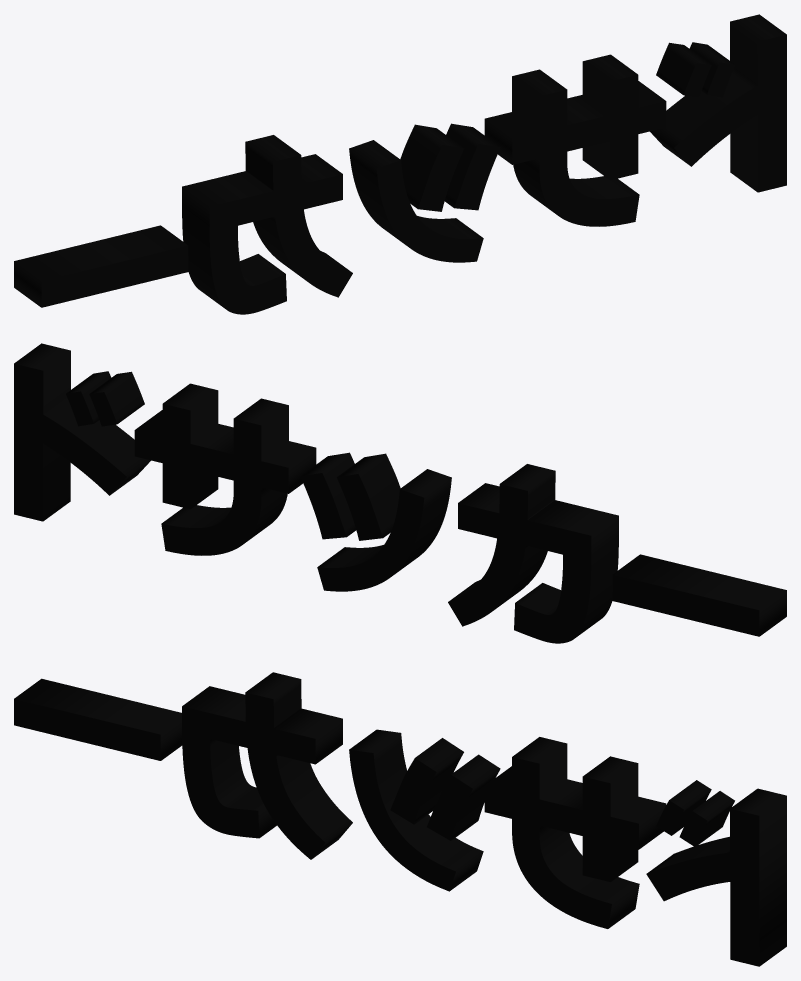
Rendered from title_right.obj.
3 views of the same model, one above another, from view 1: azimuth 30°, elevation 25°; view 2: azimuth 150°, elevation 25°; view 3: azimuth 330°, elevation 25° (orthographic).
Parts seen in each view (by area): view 1: テキスト; view 2: テキスト; view 3: テキスト.
Part boxes in pixels (box(x1,y1,x2,y2)): テキスト: box(14, 14, 786, 314); テキスト: box(14, 343, 786, 643); テキスト: box(14, 672, 786, 966).
Size of the model in its own units: 3.12 by 0.6149 by 0.2.
1 material, 1 textured.
